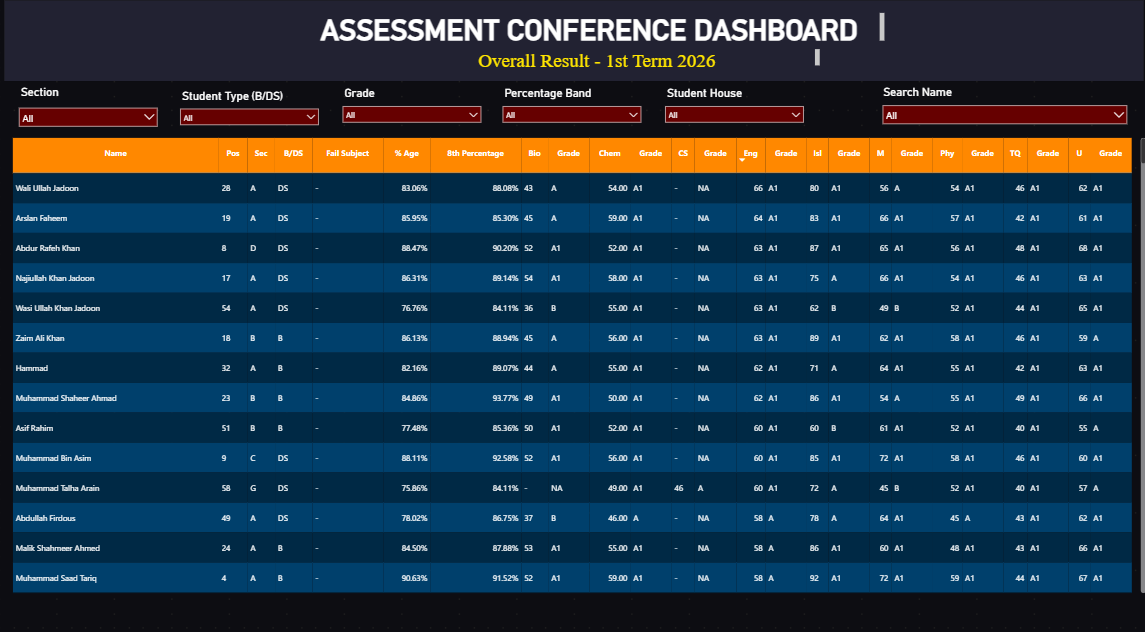

Layout of this report page (visuals, bound fields, positions):
{"tool":"powerbi","page":{"name":"Search Student","canvas":[1920,1080],"ordinal":4},"visuals":[{"type":"shape","box":[0,0,1920,152.5],"z":0},{"type":"slicer","fields":{"Values":["9th result.Name"]},"box":[22.9,172.7,251.2,68.8],"z":0,"group":"g5"},{"type":"slicer","fields":{"Values":["9th result.Clean House"]},"box":[1101.4,174,251.2,55],"z":0,"group":"g3"},{"type":"slicer","fields":{"Values":["9th result.B/DS"]},"box":[292.9,178.4,251.2,55],"z":0,"group":"g4"},{"type":"textbox","box":[496,25.3,986.2,60],"z":1000},{"type":"textbox","box":[30.6,146.3,192.5,31.2],"z":1000,"group":"g5"},{"type":"textbox","box":[1109.4,147.5,192.5,31.2],"z":1000,"group":"g3"},{"type":"textbox","box":[300.9,151.9,192.5,31.2],"z":1000,"group":"g4"},{"type":"textbox","box":[630.2,85.7,745,41.7],"z":2000},{"type":"tableEx","fields":{"Values":["9th result.Name","9th result.Pos","9th result.Cl","9th result.B/DS","9th result.F Sub","9th result.% Age","9th result.8th Percentage","9th result.B 60","9th result.B Grade","9th result.C 60","9th result.C Grade","9th result.CS 60"]},"box":[16.7,233.3,1903.3,770],"z":3000},{"type":"slicer","fields":{"Values":["9th result.Name"]},"box":[1465.7,169.6,428.3,68.3],"z":4000},{"type":"textbox","box":[1470.7,146.2,193.3,31.7],"z":5000},{"type":"group","id":"g1","title":"Group 3","box":[562.9,149,251.4,81.4],"z":6000},{"type":"group","id":"g2","title":"Group 4","box":[831.4,149,251.4,81.4],"z":7000},{"type":"group","id":"g3","title":"Group 1","box":[1101.4,147.5,251.2,81.5],"z":8000},{"type":"group","id":"g4","title":"Group 2","box":[292.9,151.9,251.2,81.5],"z":9000},{"type":"group","id":"g5","title":"Group 5","box":[22.9,146.3,251.2,95.1],"z":10000},{"type":"slicer","fields":{"Values":["9th result.Grd"]},"box":[562.9,175.5,251.2,55],"z":33000,"group":"g1"},{"type":"textbox","box":[570.9,149,192.5,31.2],"z":34000,"group":"g1"},{"type":"slicer","fields":{"Values":["9th result.Percentage Band"]},"box":[831.4,175.5,251.2,55],"z":35000,"group":"g2"},{"type":"textbox","box":[839.4,149,192.5,31.2],"z":36000,"group":"g2"}]}

Visuals, with their boxes in screenshot pixels (x1, y1, x2, y2), scaled from the page's 1920x1080 canvas onto the 1145x632 screenshot:
shape: 0 0 1144 89
slicer - 9th result.Name: 14 101 163 141
slicer - 9th result.Clean House: 657 102 807 134
slicer - 9th result.B/DS: 175 104 324 137
textbox: 296 15 884 50
textbox: 18 86 133 104
textbox: 662 86 776 105
textbox: 179 89 294 107
textbox: 376 50 820 75
tableEx - 9th result.Name x 9th result.Pos: 10 137 1144 587
slicer - 9th result.Name: 874 99 1129 139
textbox: 877 86 992 104
"Group 3" group: 336 87 486 135
"Group 4" group: 496 87 646 135
"Group 1" group: 657 86 807 134
"Group 2" group: 175 89 324 137
"Group 5" group: 14 86 163 141
slicer - 9th result.Grd: 336 103 485 135
textbox: 340 87 455 105
slicer - 9th result.Percentage Band: 496 103 646 135
textbox: 501 87 615 105
